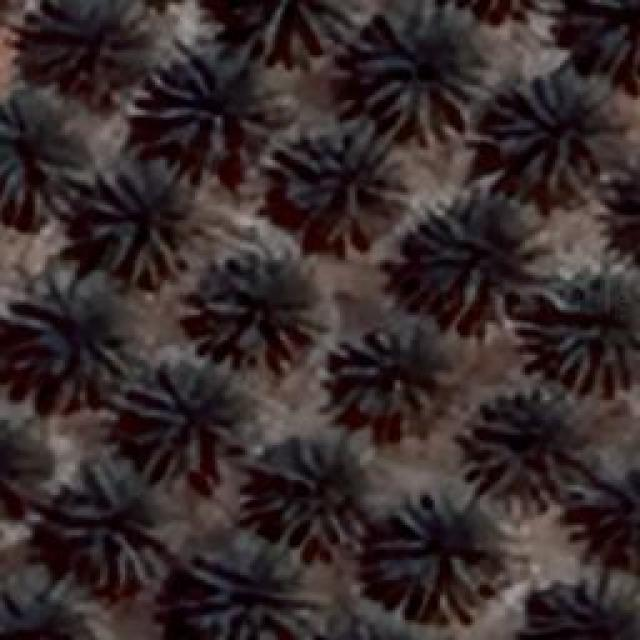PalmTree: (110, 90, 316, 491), (352, 2, 486, 140), (122, 355, 258, 483), (285, 120, 410, 255), (150, 45, 295, 160), (370, 488, 492, 622), (458, 385, 588, 510), (482, 70, 610, 192), (60, 452, 170, 586), (195, 250, 323, 365), (530, 260, 638, 395), (190, 530, 320, 638), (10, 267, 125, 385), (88, 158, 190, 288), (418, 196, 530, 312), (320, 320, 445, 422), (0, 87, 92, 222), (20, 0, 155, 92), (134, 31, 293, 90), (522, 570, 636, 635), (0, 568, 97, 640), (585, 464, 640, 568), (0, 411, 52, 519), (572, 0, 638, 80), (612, 146, 640, 269), (302, 620, 435, 640), (622, 145, 640, 275), (308, 623, 439, 640), (440, 0, 568, 17), (438, 0, 564, 13), (628, 148, 640, 272)
